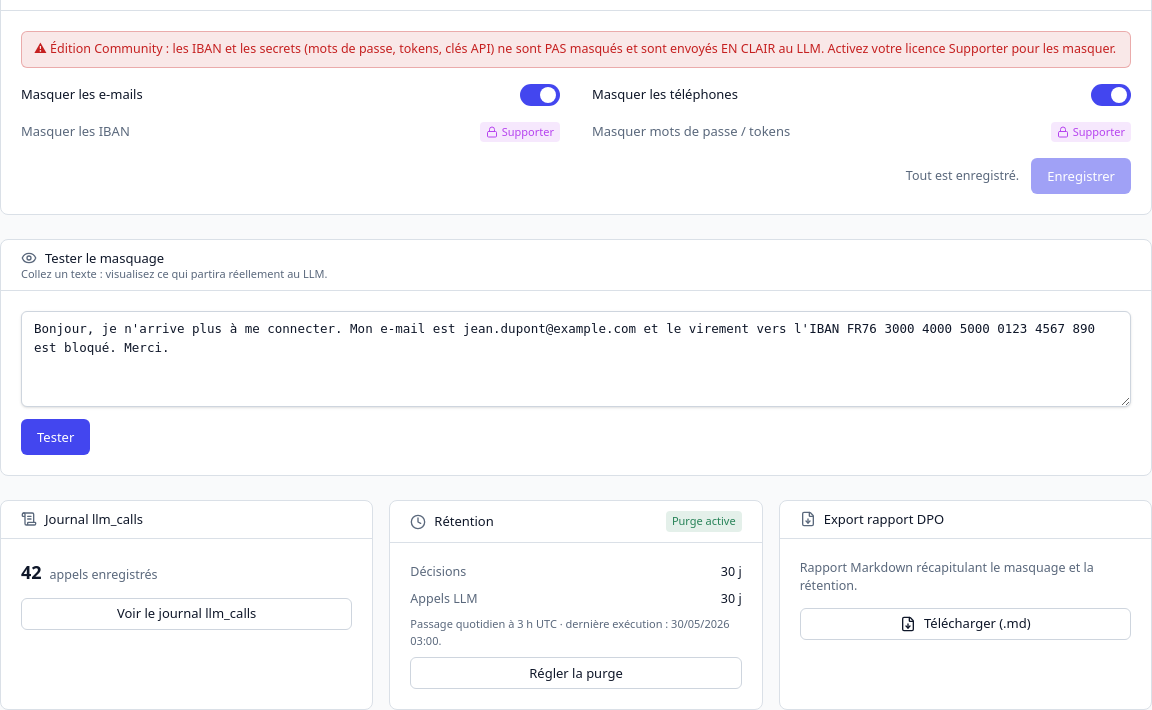
Privacy › affiche les compteurs du testeur et ce qui n'est PAS masqué
(page scrolled)
Click the button "Tester" at (56, 437), box 21,419 -> 90,455
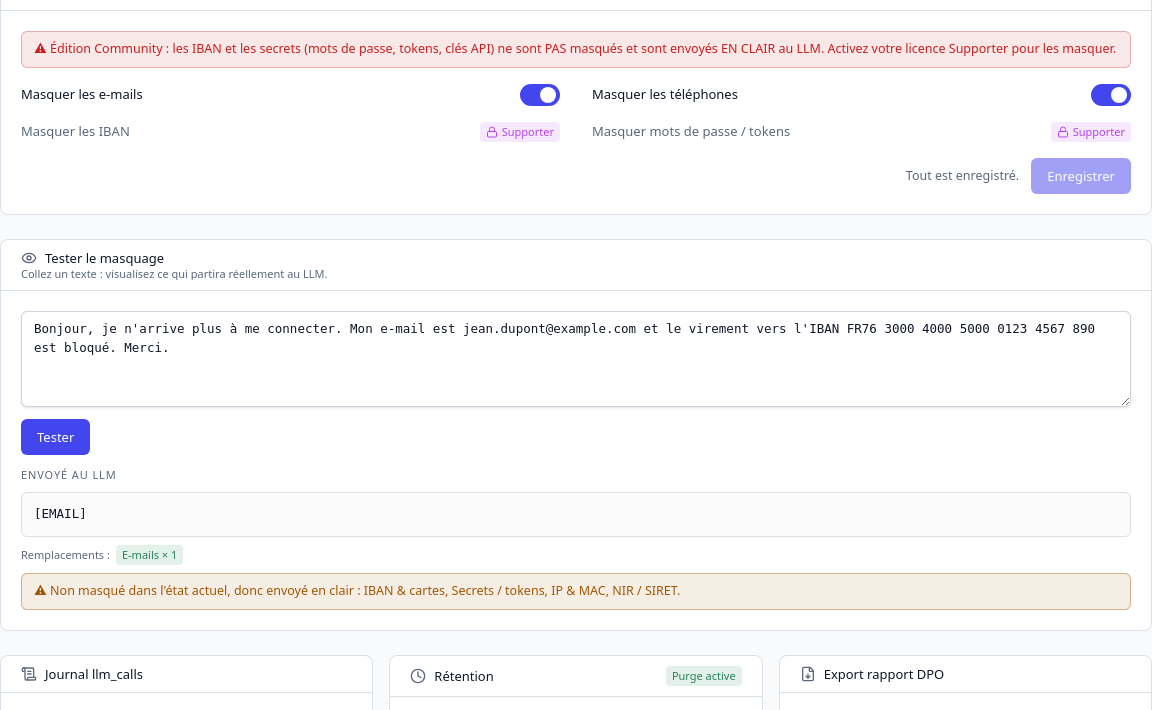
Expected: the text "E-mails × 1" is shown, 116,544 -> 183,565
Expected: the text "Non masqué dans l'état actuel" is shown, 34,582 -> 680,599
